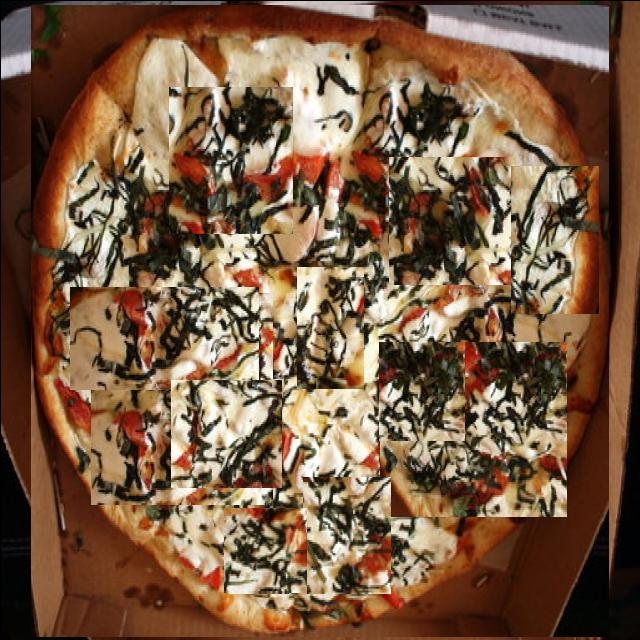basil: (90, 292, 272, 504), (379, 341, 566, 516), (69, 286, 258, 389), (168, 84, 292, 232), (388, 156, 515, 284), (510, 165, 598, 313), (170, 379, 281, 487), (302, 474, 390, 592), (212, 236, 329, 319), (378, 341, 464, 440), (296, 266, 363, 388), (223, 507, 306, 592), (227, 528, 288, 596), (522, 308, 586, 370), (2, 204, 41, 241)
pizza: (30, 4, 608, 636)
